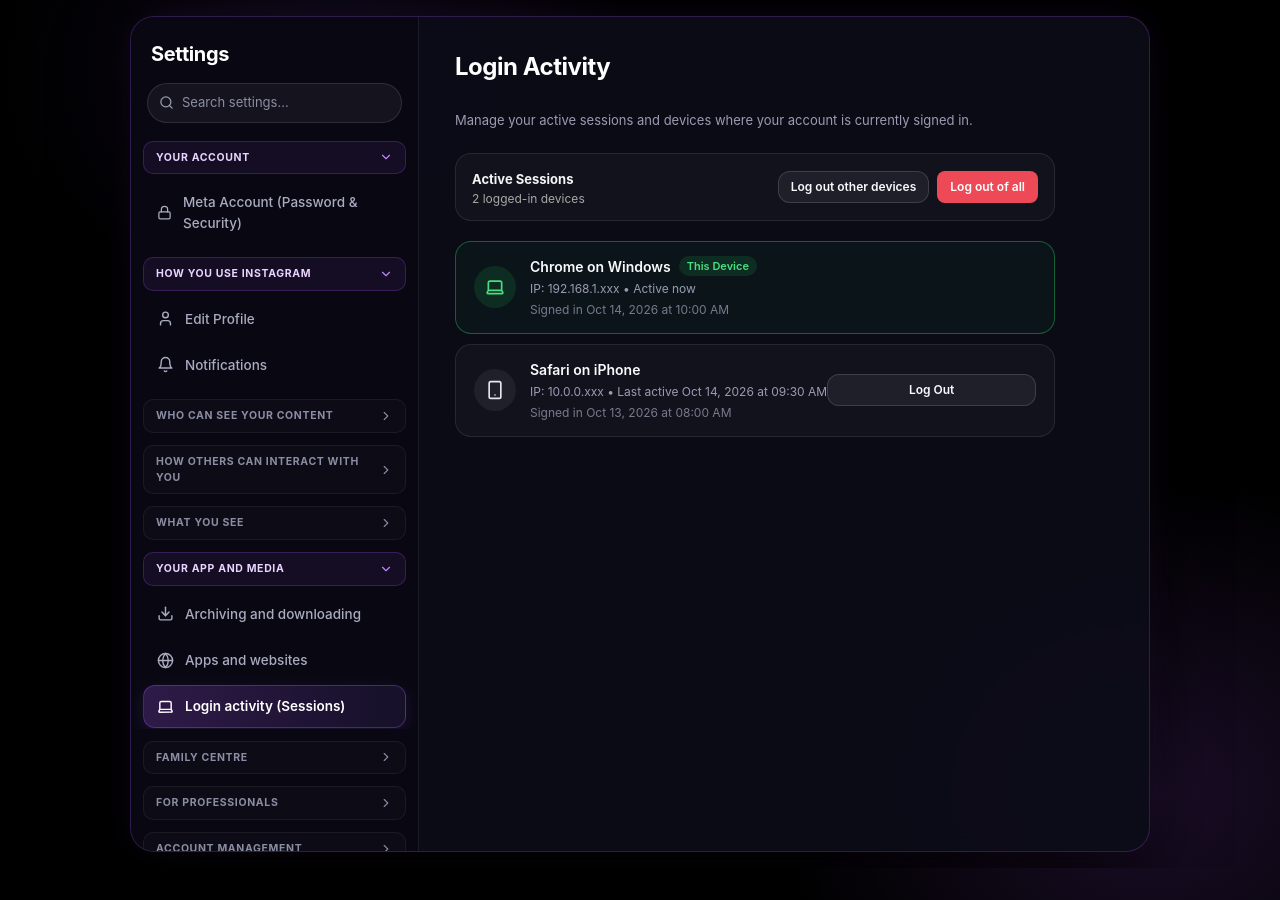
Test: Frontend Session Management & Settings Suite › 5. Confirms and logs out of all sessions, invoking auth logout
Earlier steps of the test are not shown.
Later steps or results of the test are not shown.
Click the button "Log out of all" at (988,186), box [937,170,1038,202]
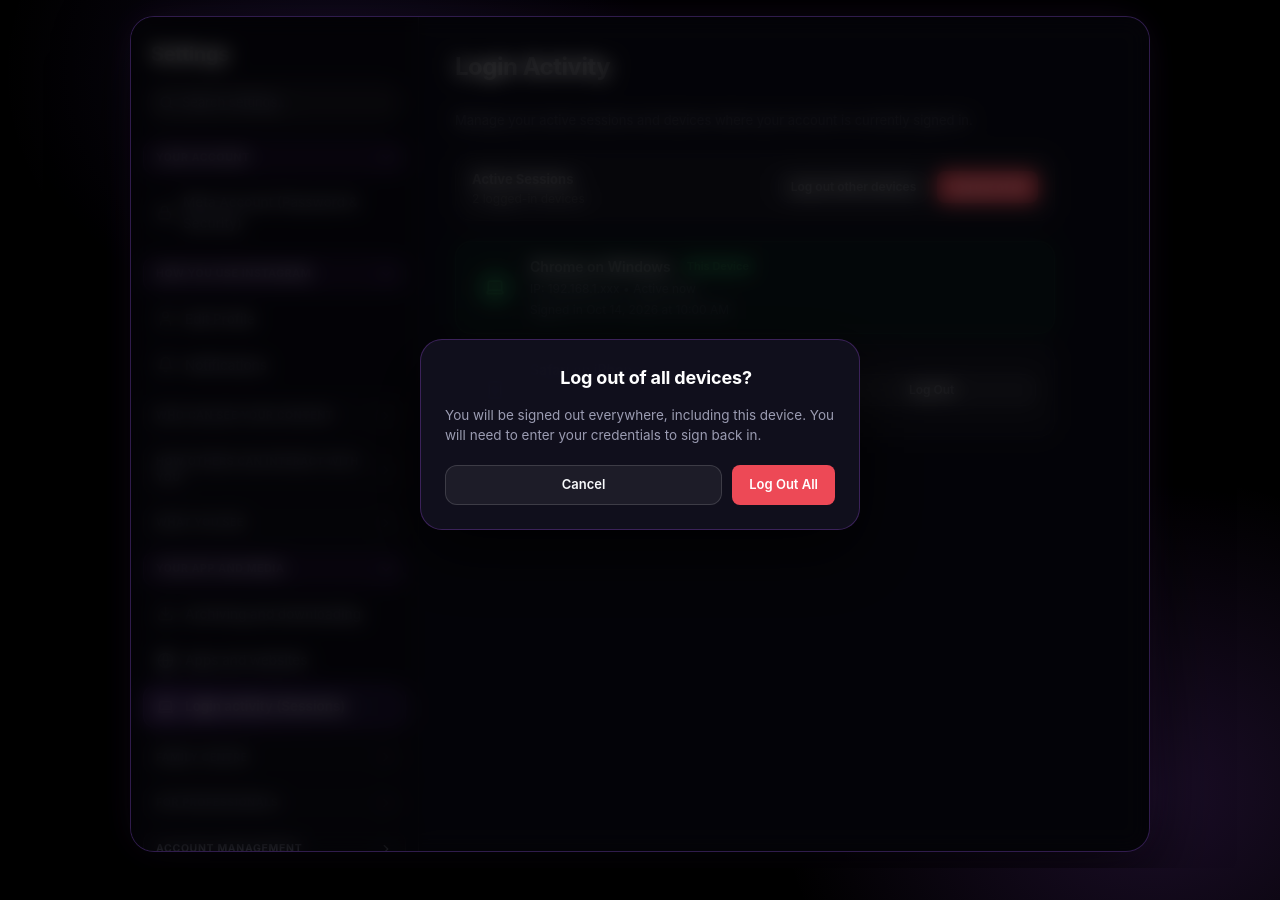
expect the heading "Log out of all devices?" is shown: met, box [560,366,752,388]
